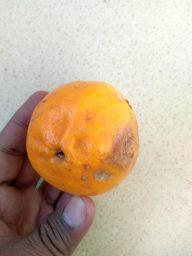Unripe: (27, 81, 141, 198)
